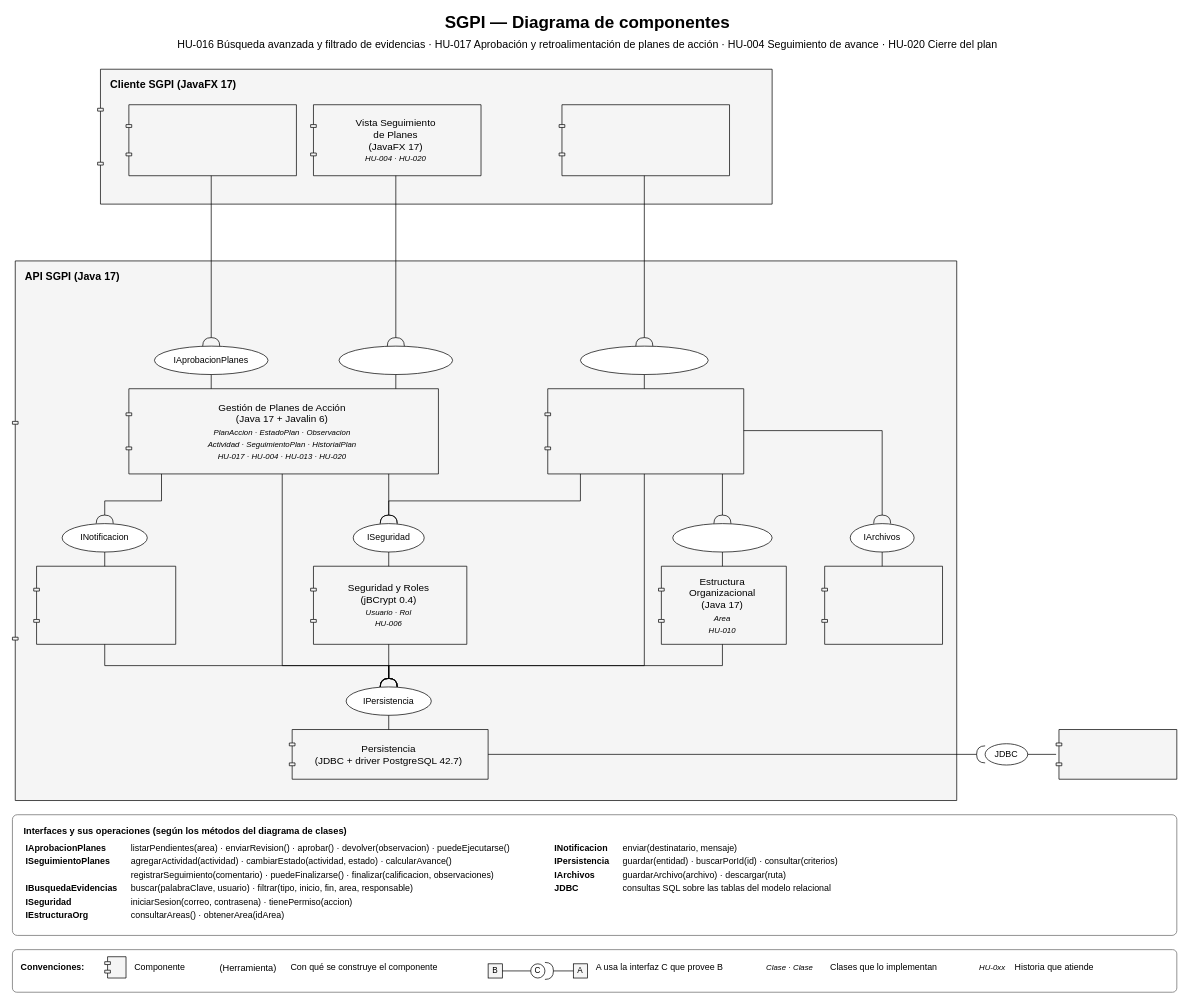
Image size: 1189x1005. Some labels were removed from this diagram. The shapes that lost their labels are listed below. From the top down, each one's centre as x and y in pixels, then its label:
At [210,140]: "Vista Revisión de Planes (JavaFX 17) HU-017".
At [644,140]: "Vista Búsqueda de Evidencias (JavaFX 17) HU-016".
At [395,360]: "ISeguimientoPlanes".
At [644,360]: "IBusquedaEvidencias".
At [644,431]: "Repositorio Documental (Java 17 + Javalin 6) Evidencia · Busqueda HU-016".
At [722,537]: "IEstructuraOrg".
At [104,605]: "Notificaciones (Jakarta Mail 2.1) Notificacion HU-005".
At [882,605]: "Gestor de Archivos (java.nio.file) HU-003".
At [1116,754]: "BD SGPI (PostgreSQL 16)".
